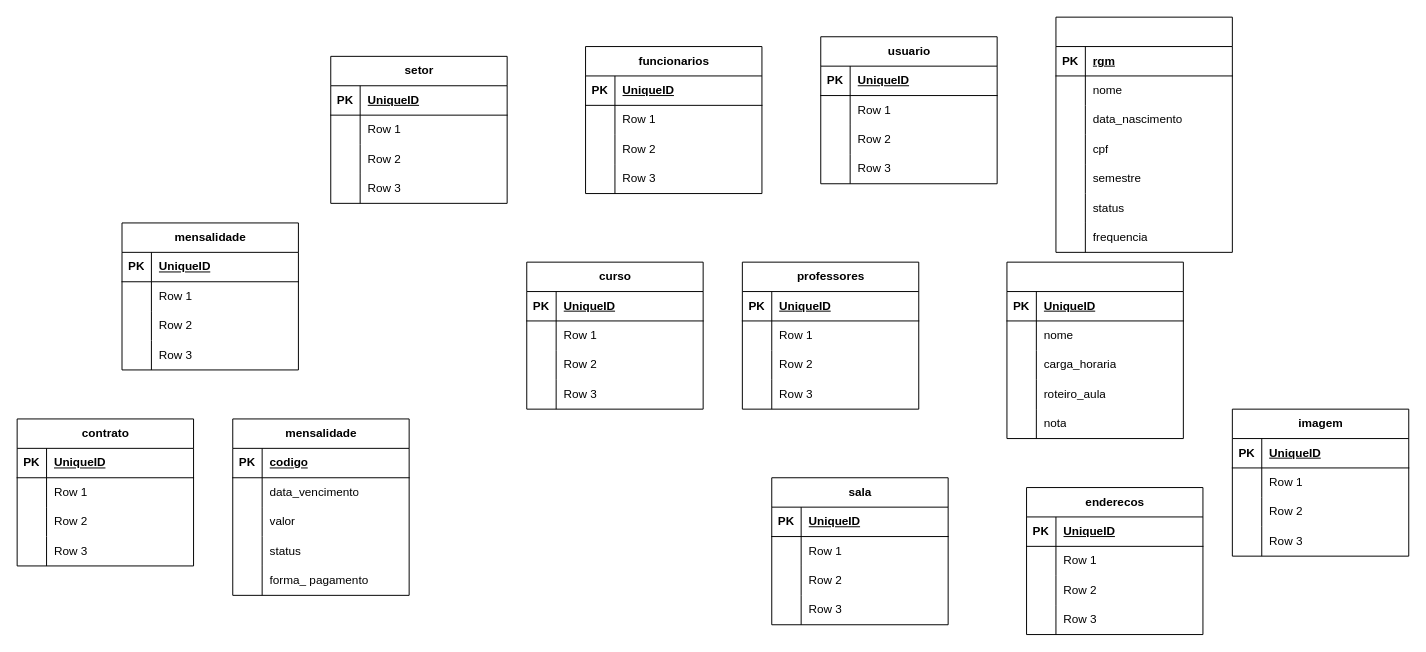
Some shapes in this 1426 by 652 pixel diagram are drawn without their labels. The box of each missing label's shape, as (x1, y1, x2, y2) in pixels:
aluno: (1055, 16, 1232, 252)
disciplina: (1006, 261, 1183, 439)
